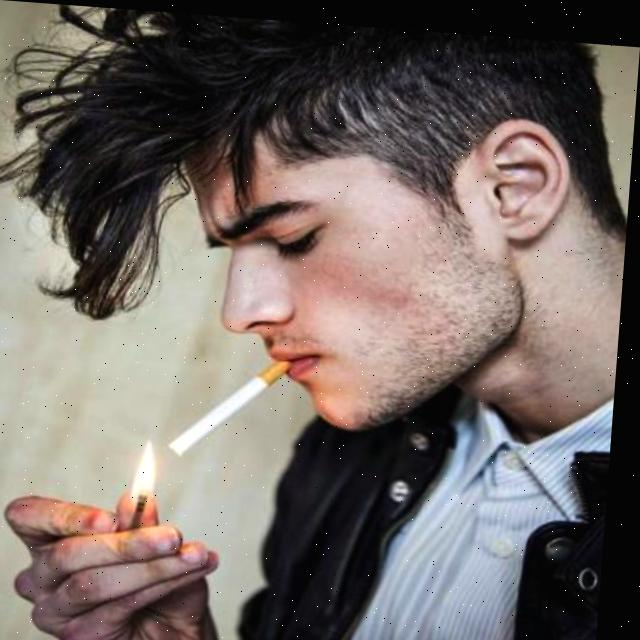cigarette: (170, 342, 307, 464)
